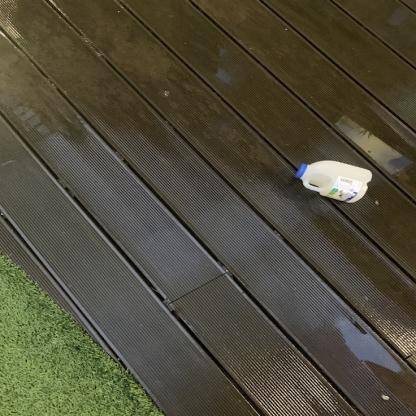trash: (293, 160, 372, 202)
